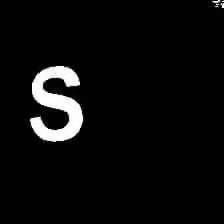LTR_S: (22, 58, 87, 145)
